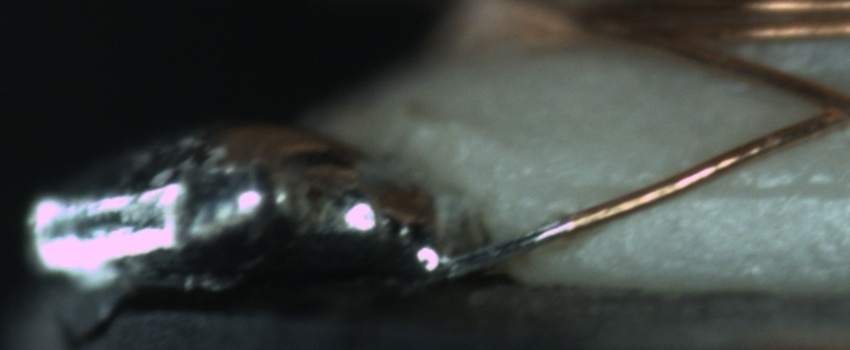CL: (795, 76, 850, 133)
DL: (554, 160, 850, 221)
TS: (427, 216, 571, 278)
